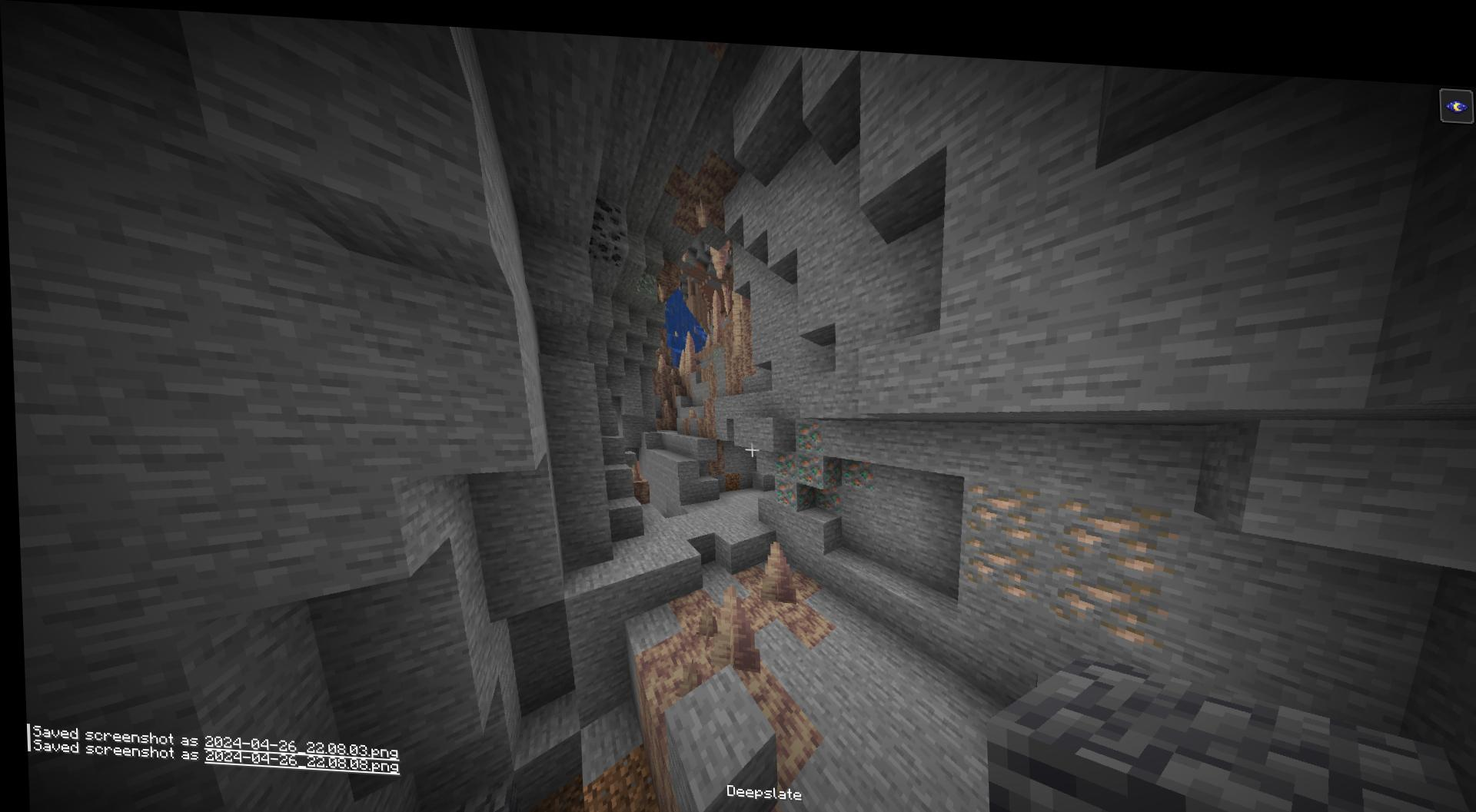iron ore: (1047, 474, 1171, 563), (1039, 543, 1158, 628), (949, 517, 1038, 594), (961, 466, 1042, 534)
